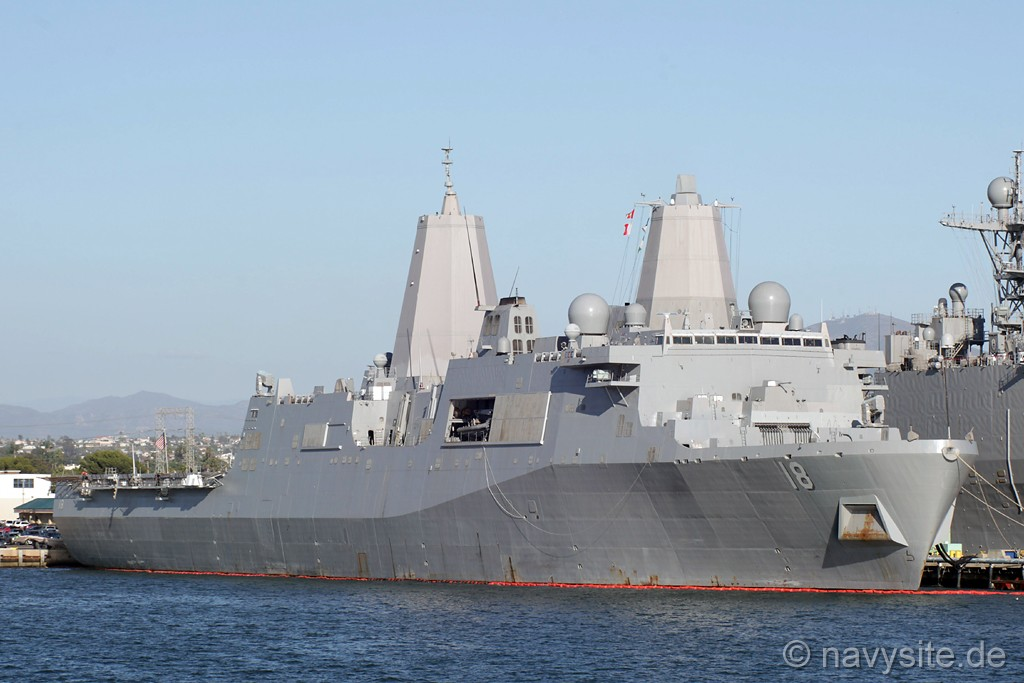rust: (835, 506, 888, 541), (607, 563, 663, 585), (706, 572, 751, 589), (350, 547, 371, 577), (501, 557, 521, 580)
